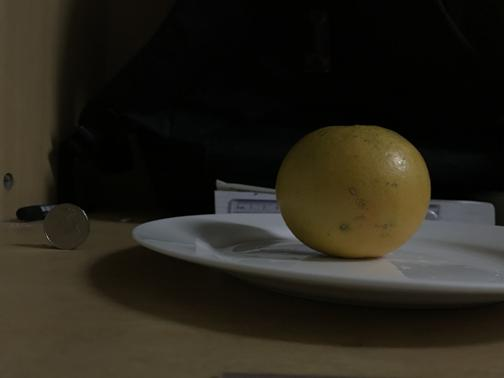coin: (41, 203, 91, 250)
orange: (274, 124, 430, 259)
